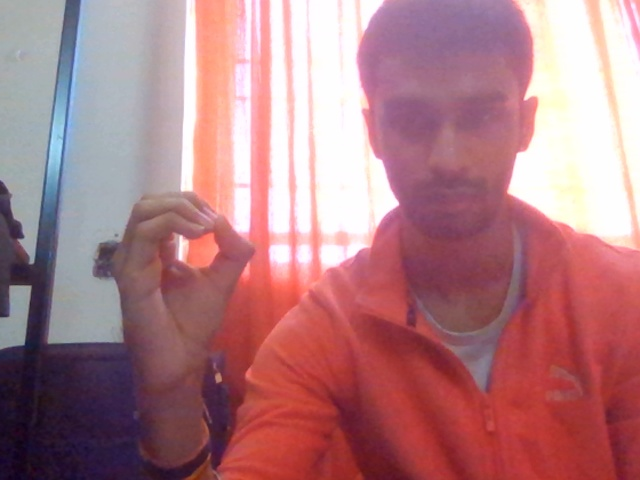O: (55, 121, 283, 429)
